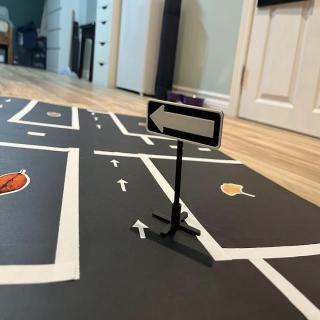road_oneway: (130, 215, 152, 243), (117, 177, 130, 199), (112, 158, 125, 172), (95, 124, 105, 132), (94, 117, 100, 123)
sign_oneway_left: (146, 99, 226, 152)
